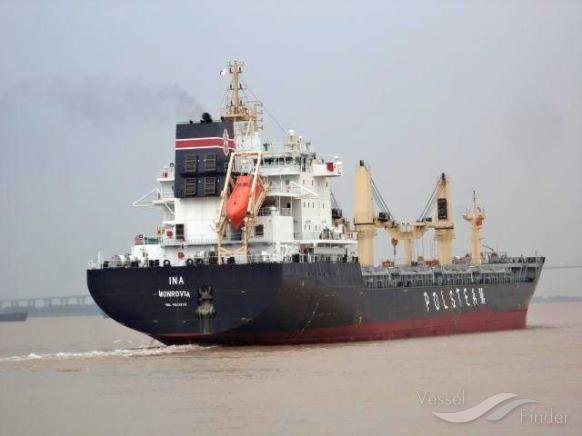OCR: (414, 288, 492, 320), (146, 270, 202, 306)
